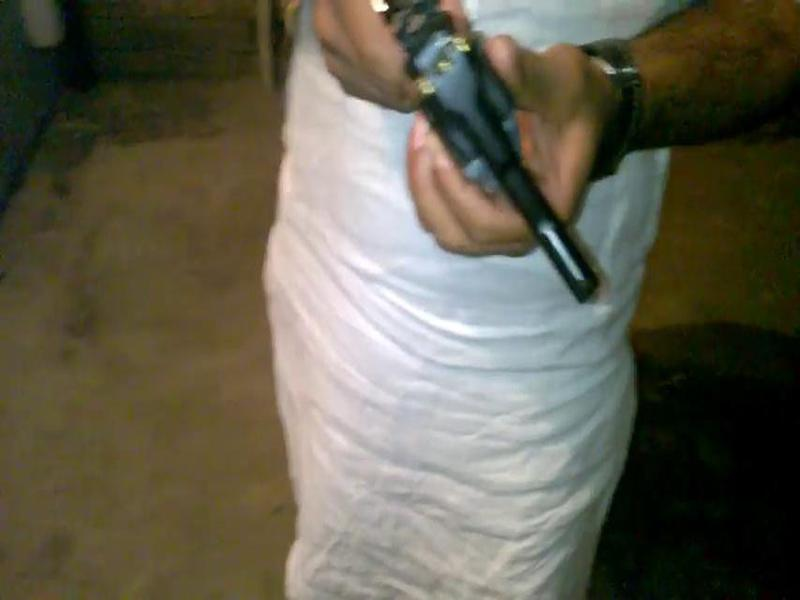Revolver: (311, 1, 645, 339)
